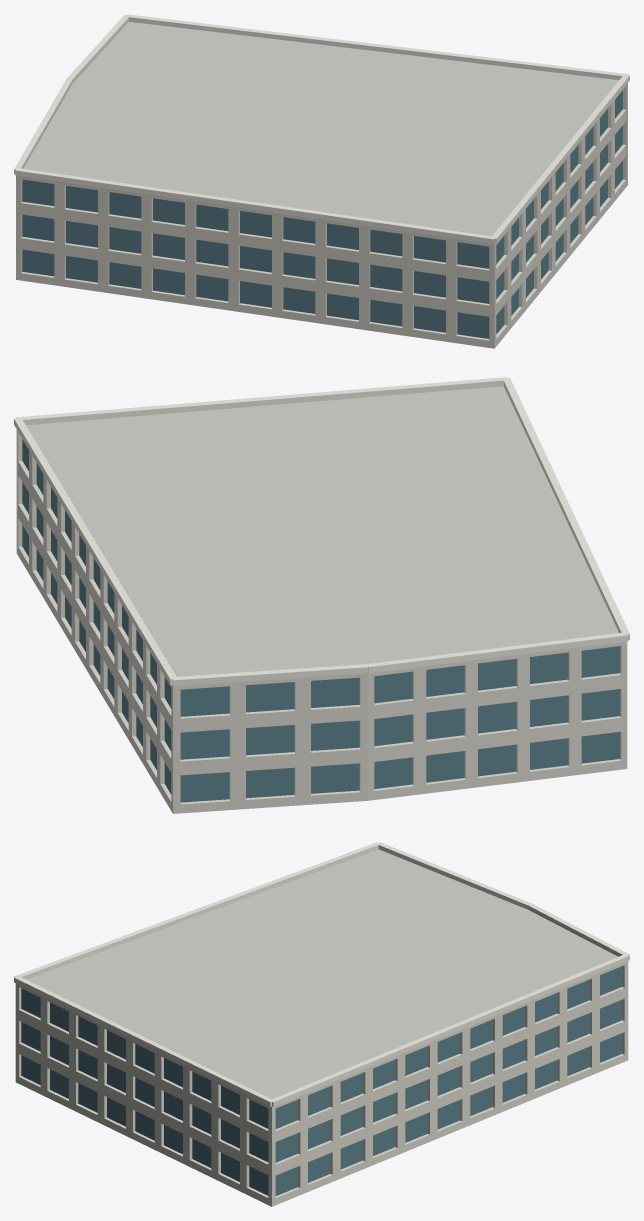
Rendered from sb_1556523864.far.glb.
3 views of the same model, one above another, from view 1: azimuth 30°, elevation 25°; view 2: azimuth 150°, elevation 25°; view 3: azimuth 270°, elevation 25° (orthographic). The views are drawn at different scales.
Visible parts, largest first — view 1: roof, wall, glass, trim; view 2: roof, wall, glass, trim; view 3: roof, wall, glass, trim.
Part boxes in pixels (left/top/right/bottom): roof: left=23, top=21, right=618, bottom=236; wall: left=16, top=83, right=627, bottom=348; glass: left=22, top=90, right=622, bottom=338; trim: left=14, top=14, right=629, bottom=244; roof: left=26, top=386, right=618, bottom=676; wall: left=16, top=429, right=627, bottom=813; glass: left=22, top=439, right=619, bottom=802; trim: left=14, top=377, right=629, bottom=686; roof: left=26, top=849, right=617, bottom=1098; wall: left=15, top=961, right=628, bottom=1206; glass: left=21, top=966, right=622, bottom=1195; trim: left=14, top=842, right=629, bottom=1106.
Size of the model in its own units: 51.66 by 9.74 by 51.67.
